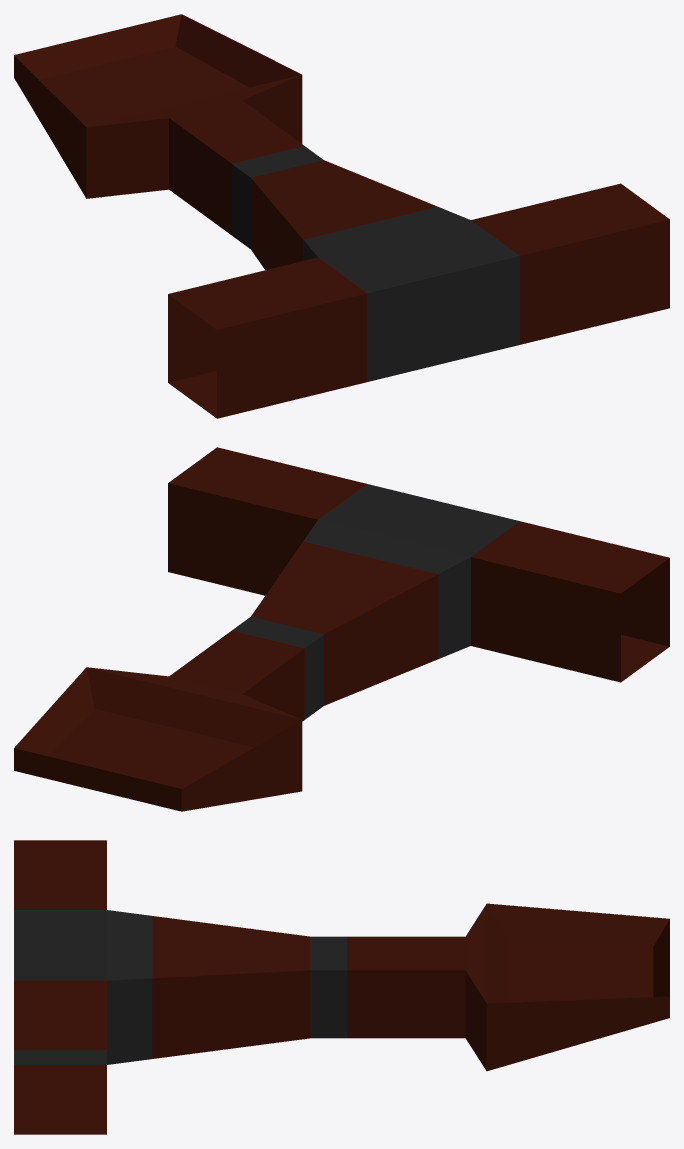
File: catapult_arm.obj
The picture shows the model from 3 angles, top to bottom: view 1: azimuth 30°, elevation 25°; view 2: azimuth 150°, elevation 25°; view 3: azimuth 270°, elevation 25°; orthographic projection. The views are drawn at different scales.
Visible parts, largest first — view 1: catapult_arm; view 2: catapult_arm; view 3: catapult_arm.
Boxes of the visible parts, <box> form: catapult_arm: <box>14,14,669,418</box>; catapult_arm: <box>14,447,669,811</box>; catapult_arm: <box>14,840,669,1134</box>.
Bounding box in the file's own units: 0.416 × 0.078 × 0.55.
